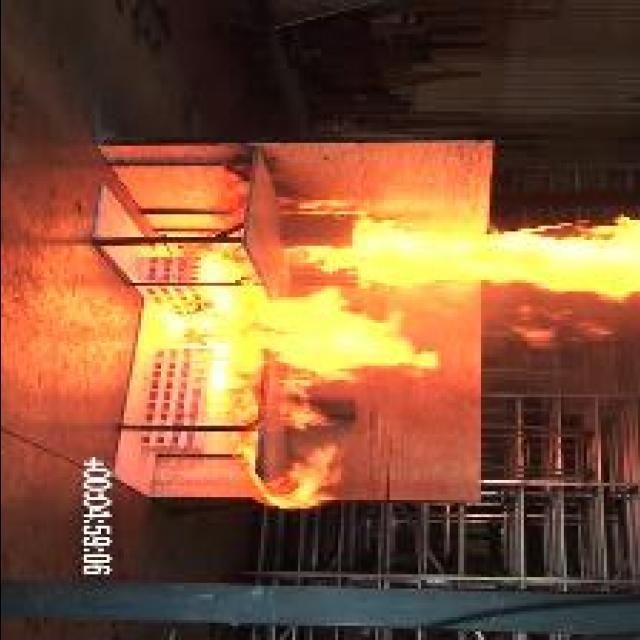Fire: (160, 256, 437, 510), (298, 213, 638, 296)
